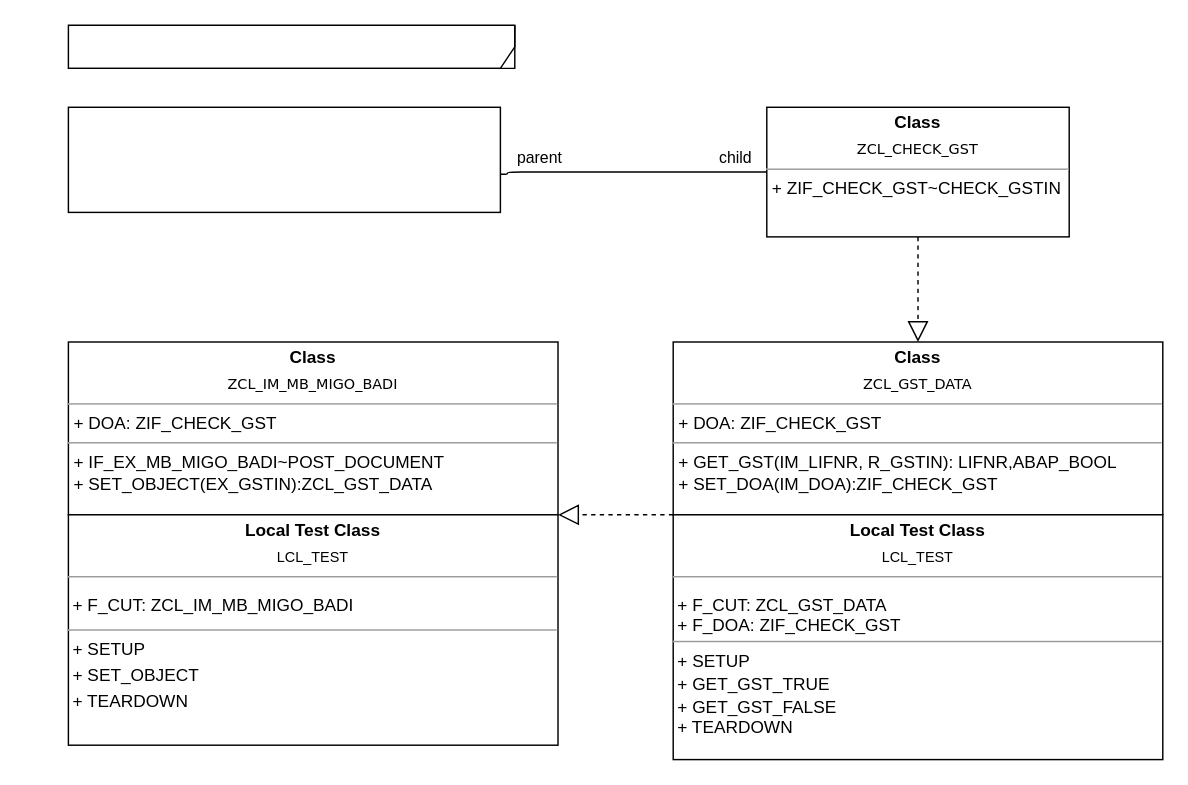
The diagram is 1188 pixels wide and 785 high, and some of its shapes have lost their labels. The shapes that lost their labels are listed below. From the top down, each one's centre as x and y in pixels, then its label:
At [291,46]: "Business Addins -Test driven development".
At [283,159]: "ZIF_CHECK_GST Interface + CHECK_GSTIN(IM_LIFNR,R_GST): LIFNR, STCD3".
